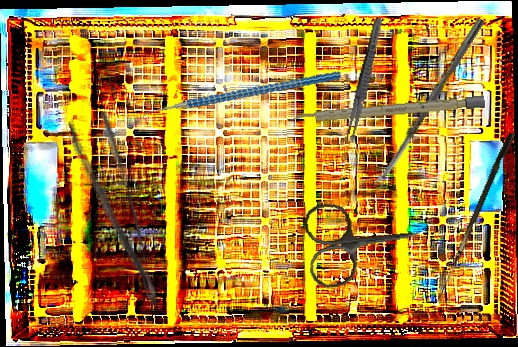Chopper: (133, 43, 342, 156)
Dressing Forceps: (64, 110, 163, 317), (343, 16, 386, 144)
Hook Surgical: (436, 130, 516, 306)
Iris Scissors: (302, 192, 425, 291)
Scalpel Handle: (290, 95, 486, 125)
Surgical Spoon: (371, 16, 486, 191)
